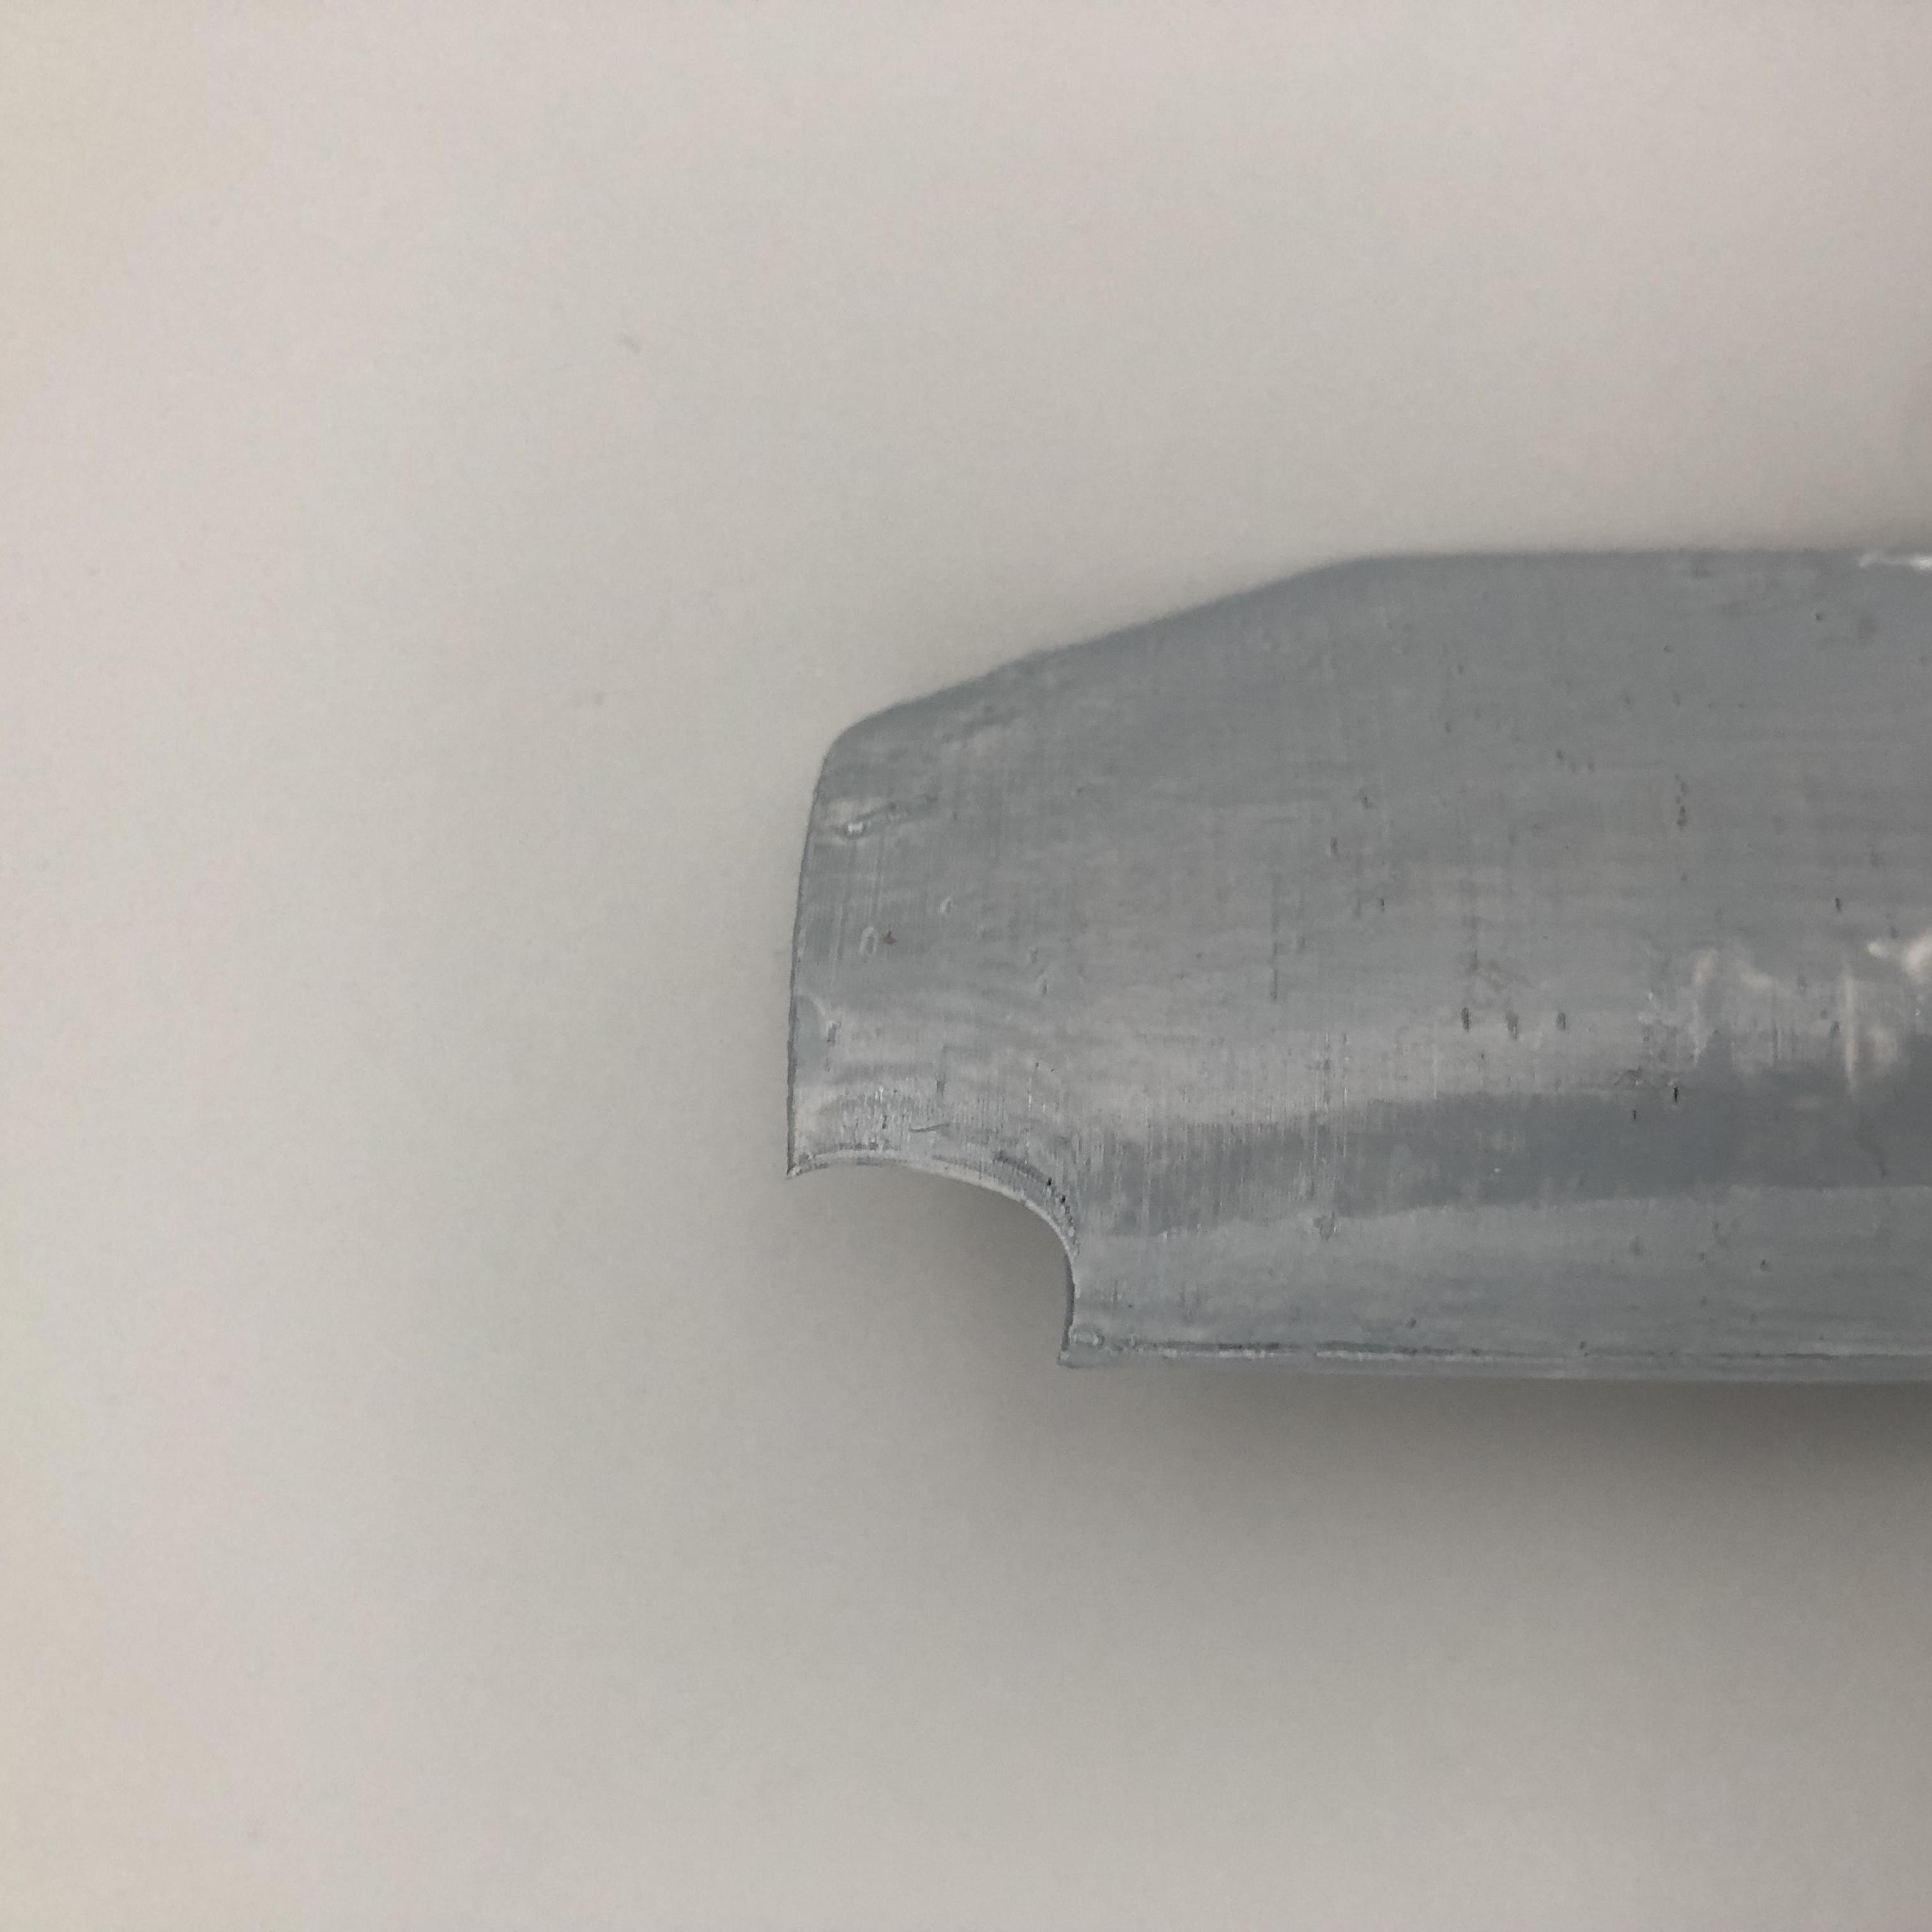fracture: (803, 1111, 1127, 1357)
